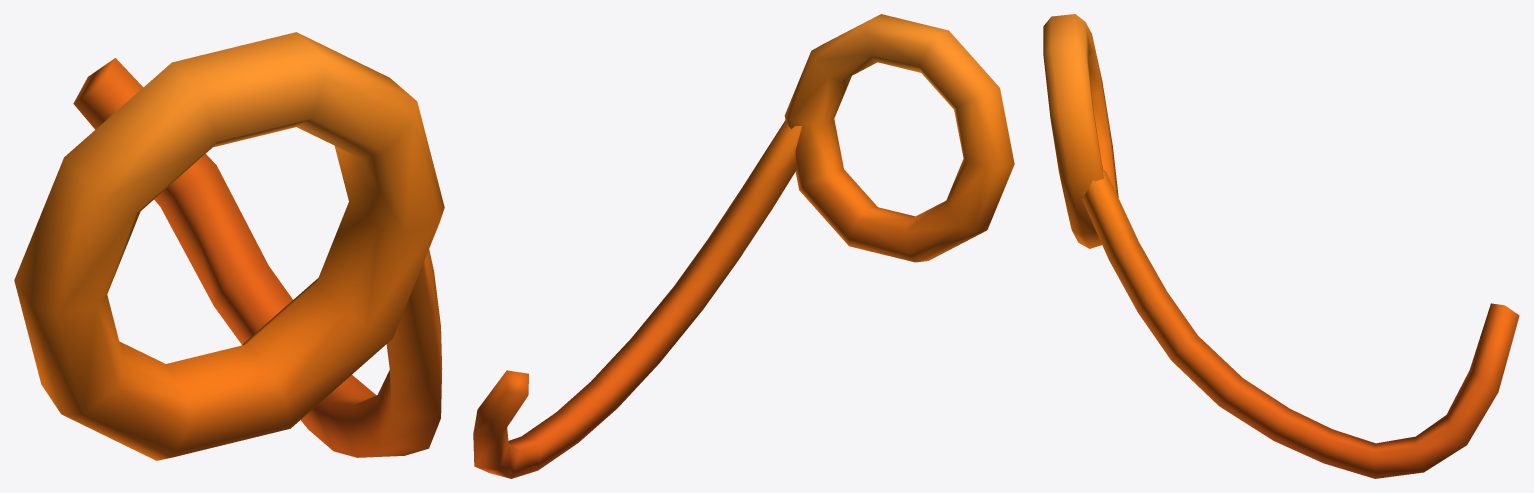
File: Glasses_04.glb
3 renders of one model, left to right at view 1: azimuth 30°, elevation 25°; view 2: azimuth 150°, elevation 25°; view 3: azimuth 270°, elevation 25°, orthographic. The views are drawn at different scales.
Visible parts, largest first — view 1: Glasses_04; view 2: Glasses_04; view 3: Glasses_04.
Boxes of the visible parts, bbox=[...] form: Glasses_04: bbox=[14, 32, 444, 460]; Glasses_04: bbox=[473, 14, 1014, 478]; Glasses_04: bbox=[1043, 14, 1519, 478].
Size of the model in its own units: 0.2635 by 0.2788 by 0.3455.
1 material, 1 textured.
